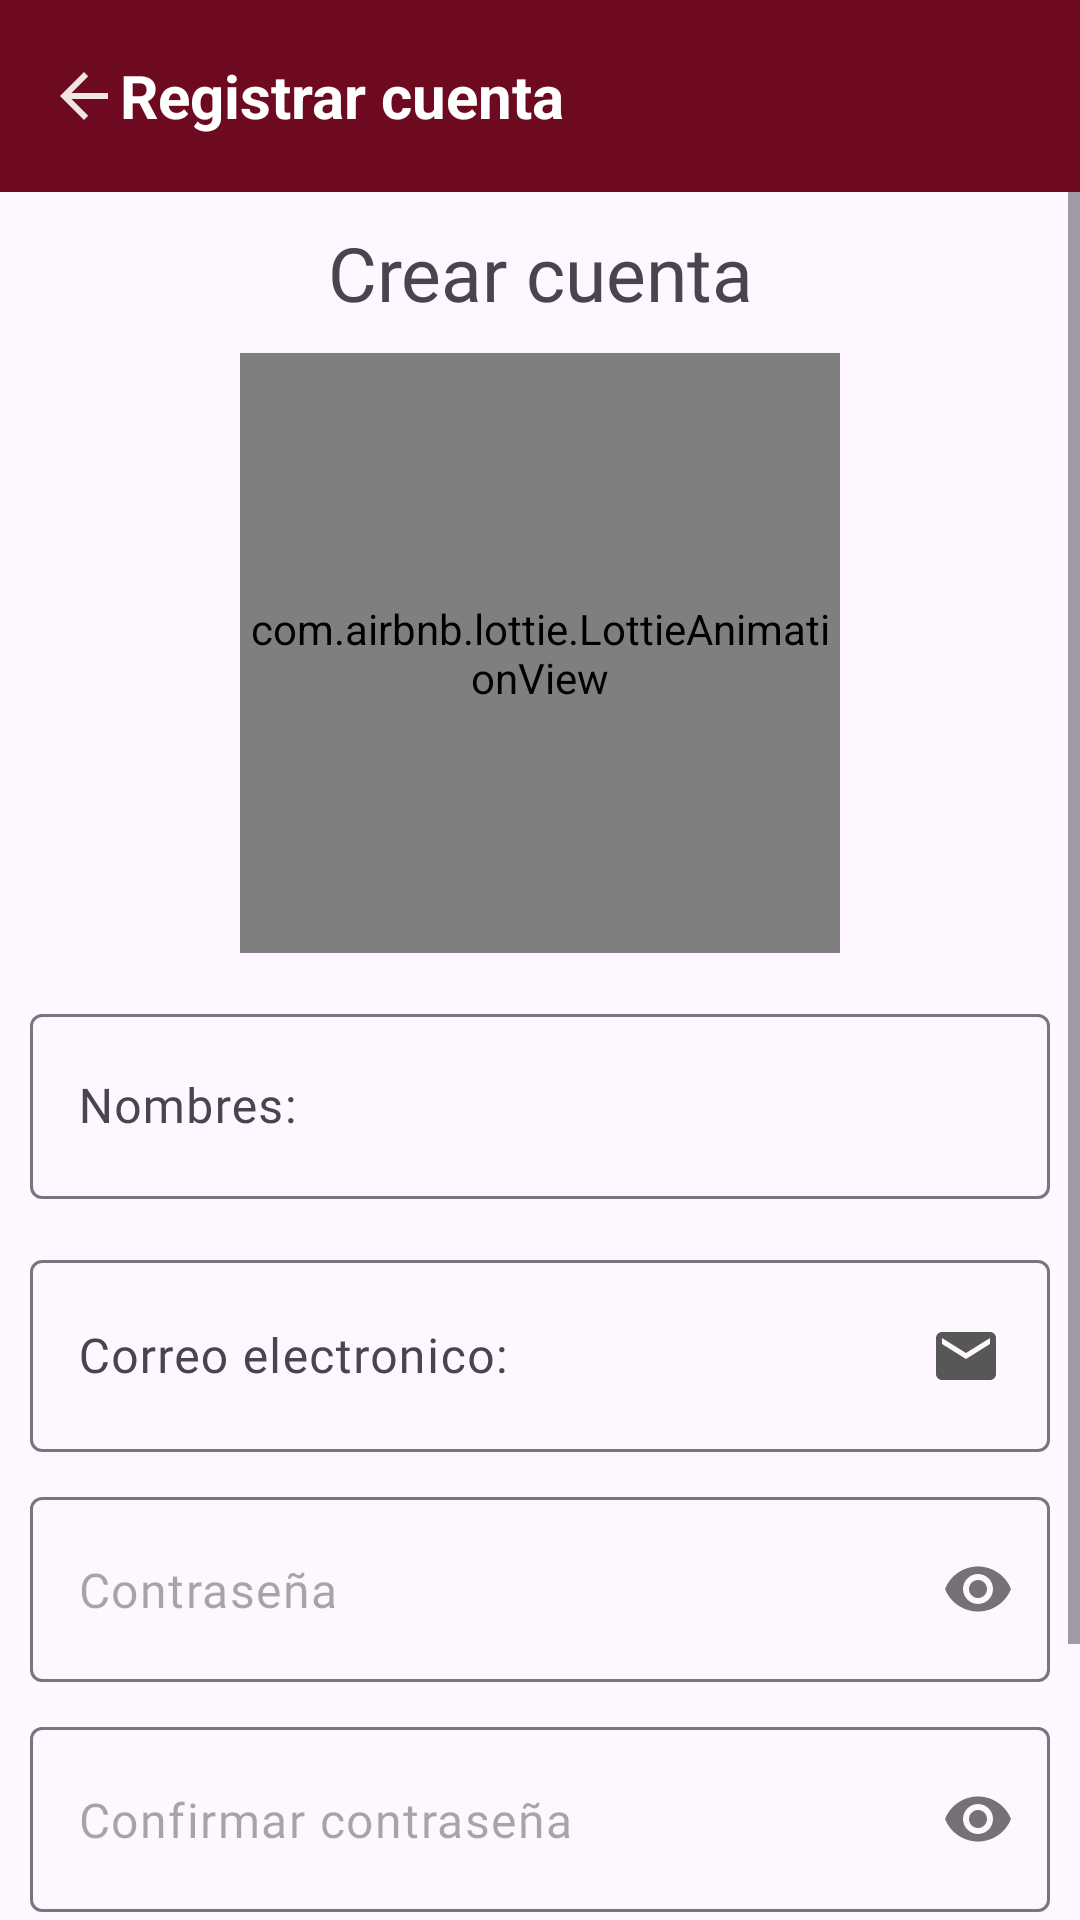

Named icons in this screenshot (1080 x 1920) and their bounding boxes, rect(x1, y1, x2, y2):
flecha izquierda: rect(60, 72, 108, 120)
